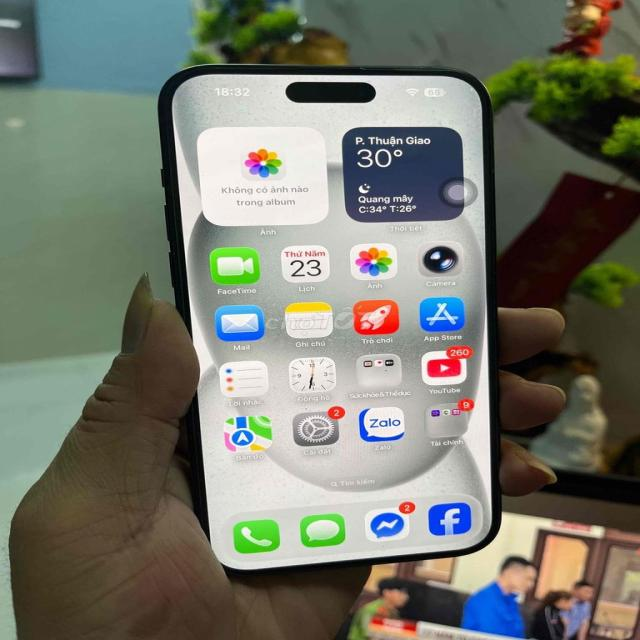gen_15: (138, 55, 526, 582)
